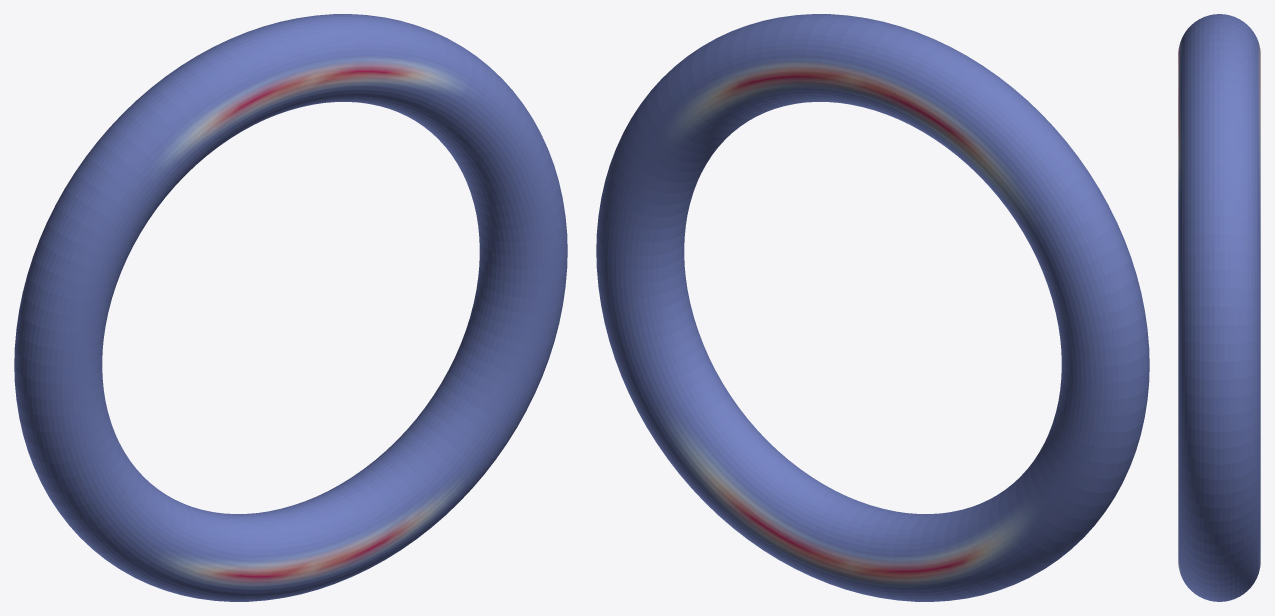
3 renders of one model, left to right at view 1: azimuth 30°, elevation 25°; view 2: azimuth 150°, elevation 25°; view 3: azimuth 270°, elevation 25°, orthographic. The views are drawn at different scales.
Parts seen in each view (by area): view 1: world; view 2: world; view 3: world.
Part boxes in pixels (box(x1,y1,x2,y2)): world: box(14, 14, 567, 601); world: box(596, 14, 1149, 601); world: box(1178, 14, 1260, 601).
Bounding box in the file's own units: 14.22 × 14.22 × 2.
